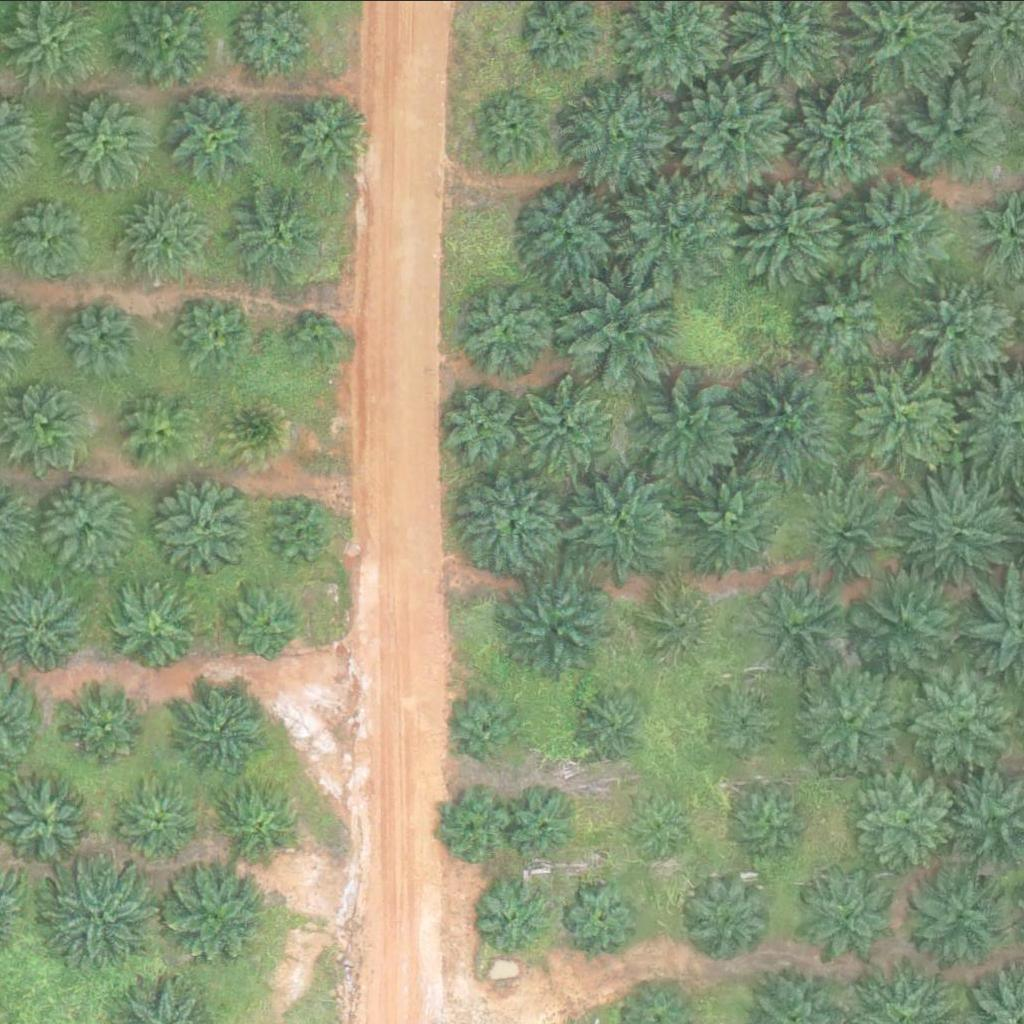Kelapa_Sawit: (495, 566, 621, 691), (556, 459, 682, 584), (626, 364, 752, 489), (559, 267, 685, 392), (618, 164, 744, 289), (783, 70, 909, 195), (736, 170, 850, 283), (45, 855, 158, 968), (852, 568, 965, 681), (906, 472, 1019, 585), (841, 172, 954, 285), (907, 78, 1020, 191), (674, 76, 788, 188), (792, 663, 905, 775), (907, 661, 1020, 773), (678, 463, 791, 575), (794, 476, 907, 588), (731, 364, 844, 476), (850, 359, 963, 471), (905, 278, 1018, 390), (559, 81, 672, 193), (57, 89, 158, 189), (172, 675, 273, 775), (158, 862, 259, 962), (459, 474, 560, 574), (274, 86, 374, 186), (224, 180, 324, 280), (38, 470, 138, 570), (156, 474, 256, 574), (798, 863, 898, 963), (913, 861, 1013, 961), (859, 770, 959, 870), (516, 375, 616, 475), (522, 185, 622, 285), (214, 777, 303, 865), (1, 379, 89, 467), (1, 777, 89, 865), (62, 675, 150, 763), (113, 774, 201, 862), (684, 870, 772, 958), (727, 775, 815, 863), (797, 273, 885, 361), (170, 89, 258, 176), (1, 195, 89, 282), (113, 193, 201, 280), (115, 577, 203, 664), (750, 579, 838, 666), (437, 382, 525, 469), (463, 288, 551, 375), (126, 392, 202, 467), (65, 302, 141, 377), (480, 89, 556, 164), (174, 295, 250, 370), (215, 391, 291, 466), (264, 493, 340, 568), (643, 585, 718, 660), (223, 583, 298, 658), (476, 877, 551, 952), (568, 877, 643, 952), (434, 793, 509, 868), (512, 789, 587, 864), (449, 691, 524, 766), (579, 688, 654, 763), (709, 682, 784, 757), (287, 306, 350, 368), (631, 796, 694, 858)
